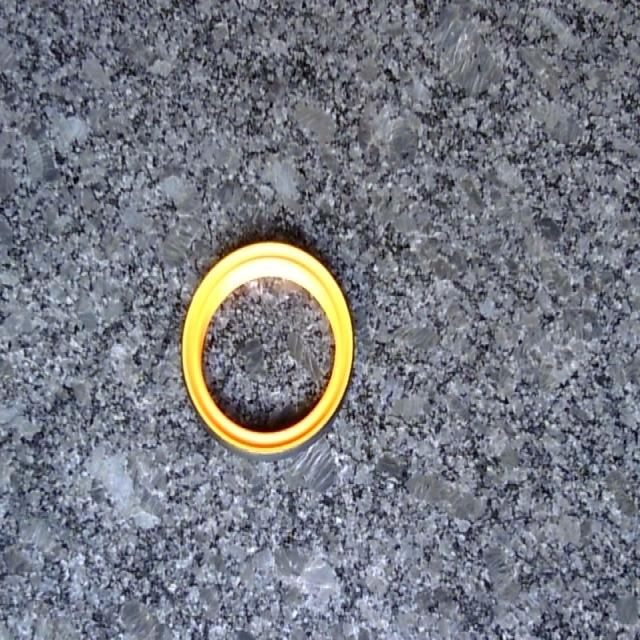orange-2W-ring: (182, 243, 354, 455)
